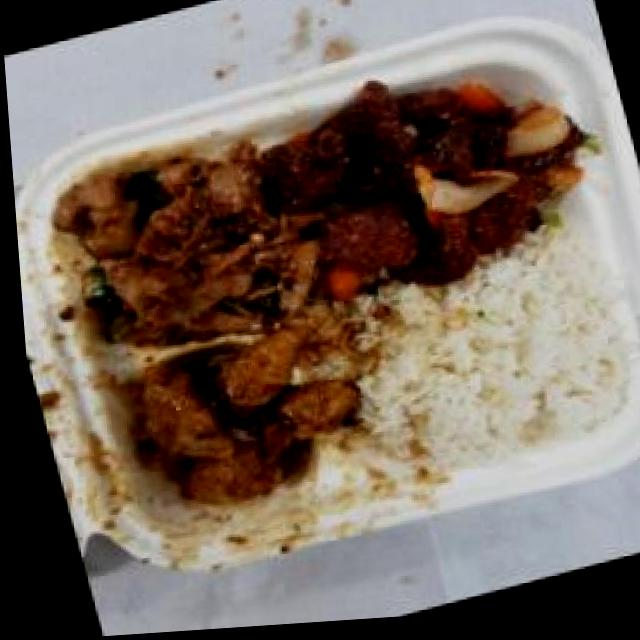Beijing Beef: (242, 37, 613, 326)
Kung Pao Chicken: (33, 117, 322, 382)
The Original Orange Chicken: (97, 312, 369, 534)
White Steamed Rice: (326, 235, 640, 499)
